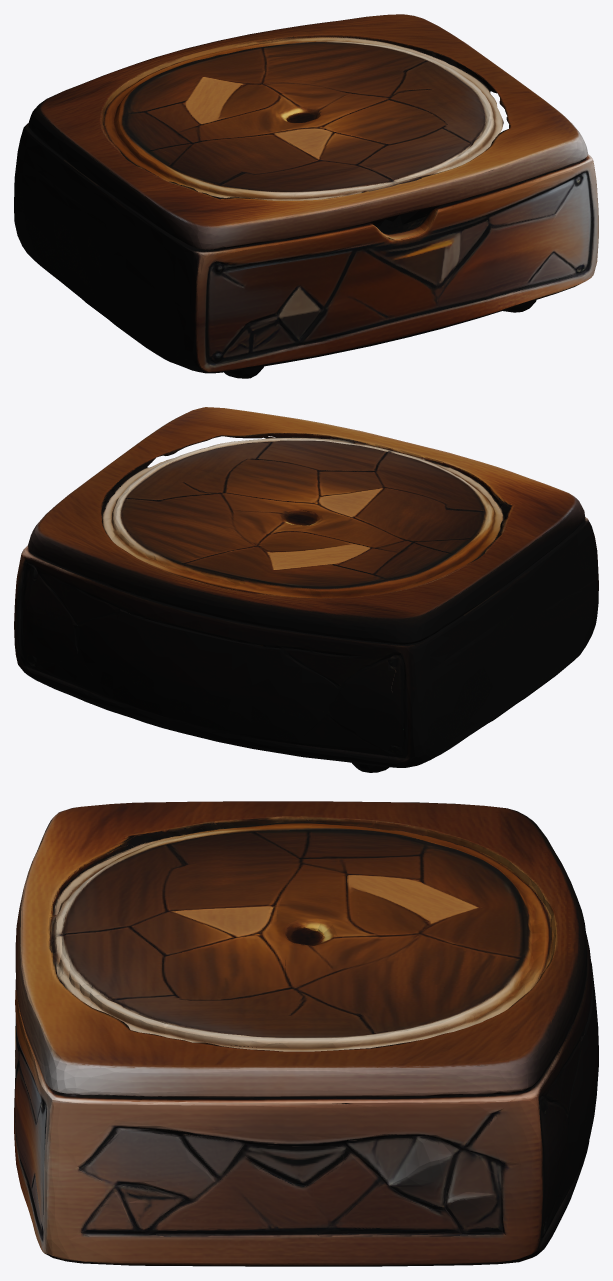
The model's file is wooden-tea-box-futuristic.jpeg.glb.
3 renders of one model, top to bottom at view 1: azimuth 30°, elevation 25°; view 2: azimuth 150°, elevation 25°; view 3: azimuth 270°, elevation 25°, orthographic. The views are drawn at different scales.
Parts seen in each view (by area): view 1: world; view 2: world; view 3: world.
Part boxes in pixels (x1,y1,x2,y2): world: (14, 14, 598, 378); world: (14, 407, 598, 772); world: (14, 801, 598, 1266).
Bounding box in the file's own units: 0.9982 × 0.3994 × 0.8942.
Materials: 1 (1 with a texture image).
